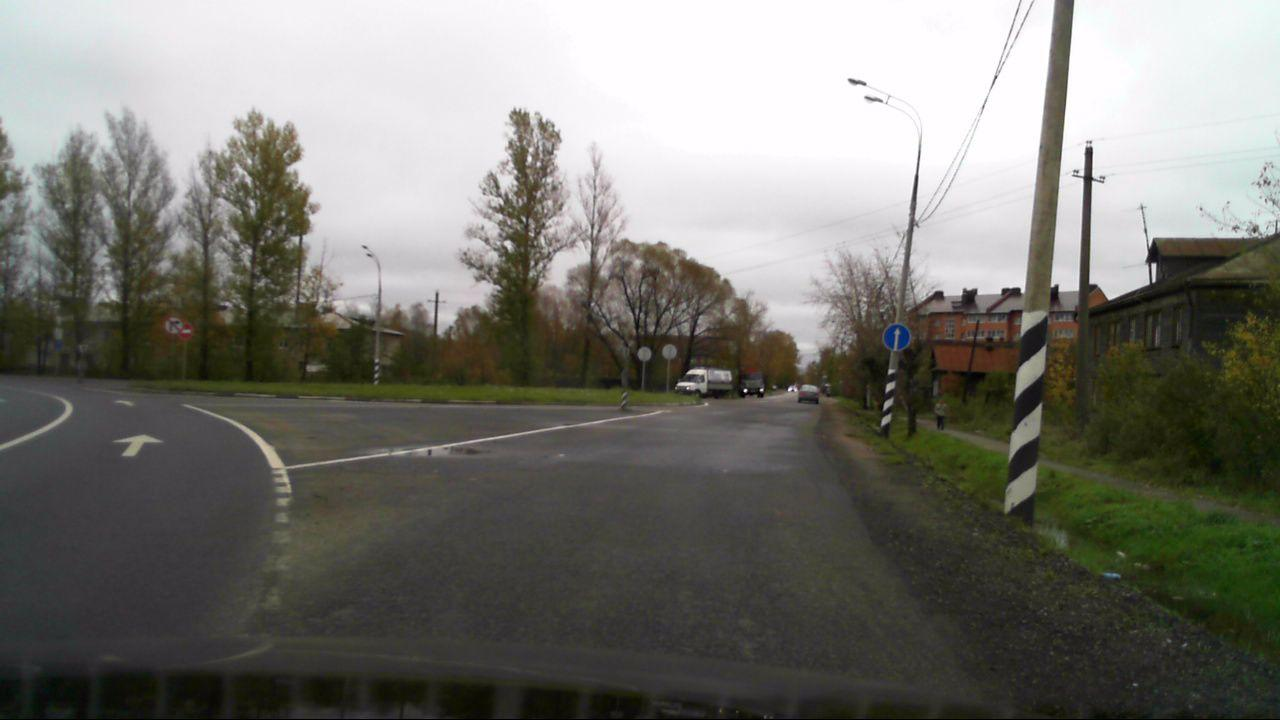obstructed_road_sign: (180, 323, 192, 337)
road_sign: (883, 323, 911, 353), (165, 316, 184, 334)
